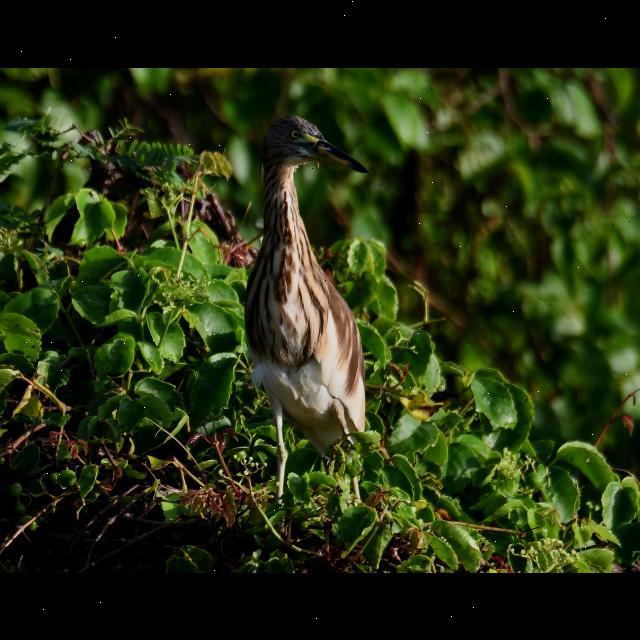heron: (239, 104, 377, 502)
